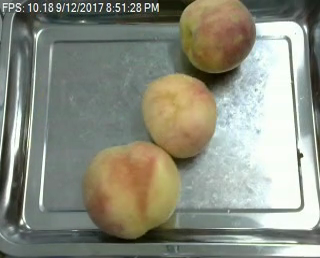Peach: (84, 141, 181, 242), (142, 71, 216, 160), (178, 0, 256, 71)
